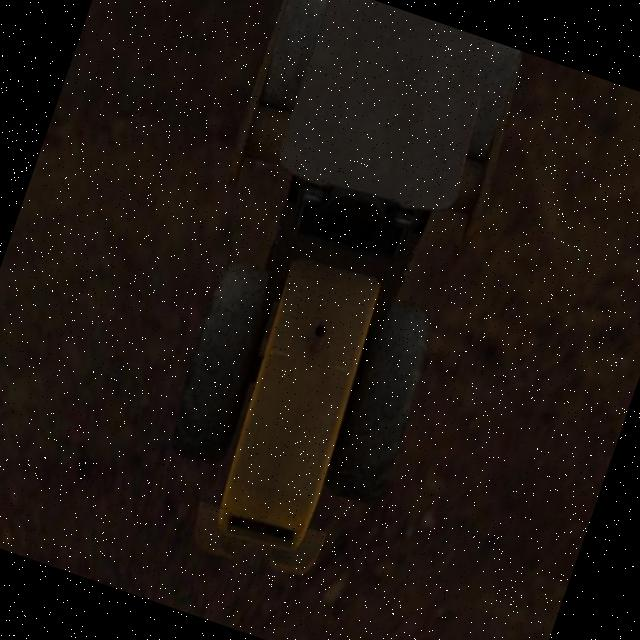Roller: (103, 0, 537, 603)
